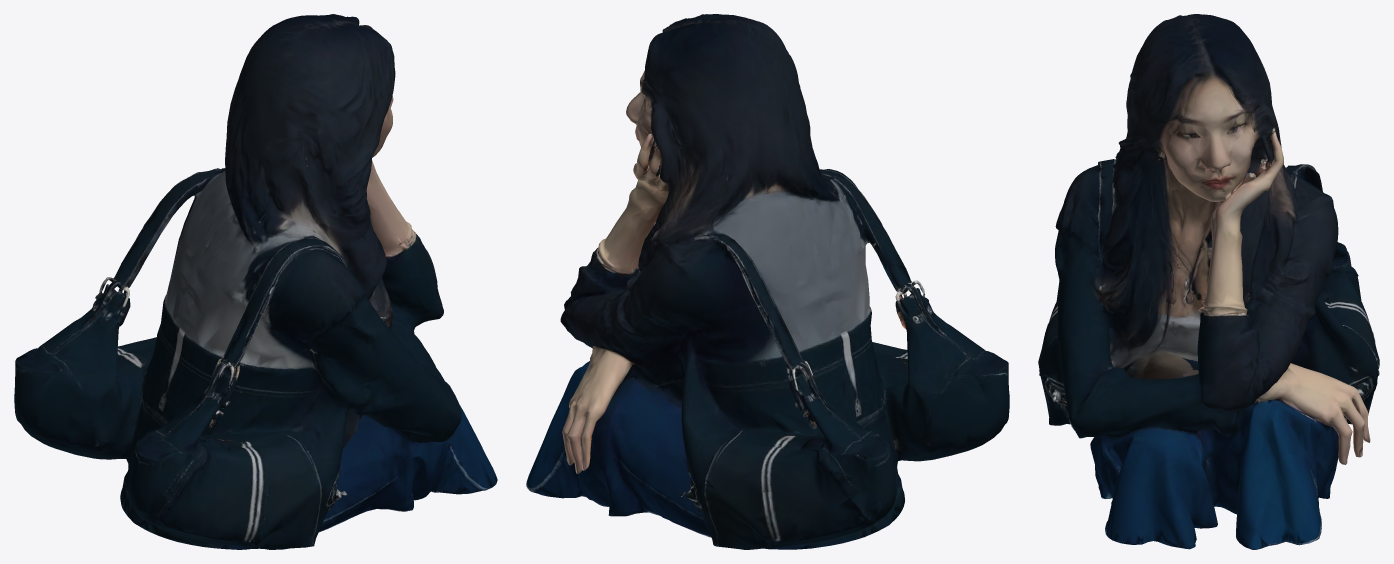
Rendered from patt.glb.
The picture shows the model from 3 angles, left to right: view 1: azimuth 30°, elevation 25°; view 2: azimuth 150°, elevation 25°; view 3: azimuth 270°, elevation 25°; orthographic projection. The views are drawn at different scales.
Visible parts, largest first — view 1: tripo_node_56bf41ef-b9fa-4600-a56e-03089d8e8d94; view 2: tripo_node_56bf41ef-b9fa-4600-a56e-03089d8e8d94; view 3: tripo_node_56bf41ef-b9fa-4600-a56e-03089d8e8d94.
Boxes of the visible parts, <box> form: tripo_node_56bf41ef-b9fa-4600-a56e-03089d8e8d94: <box>14,14,497,549</box>; tripo_node_56bf41ef-b9fa-4600-a56e-03089d8e8d94: <box>526,14,1009,549</box>; tripo_node_56bf41ef-b9fa-4600-a56e-03089d8e8d94: <box>1038,14,1379,549</box>.
Size of the model in its own units: 0.884 by 0.9993 by 0.6844.
Materials: 1 (1 with a texture image).
